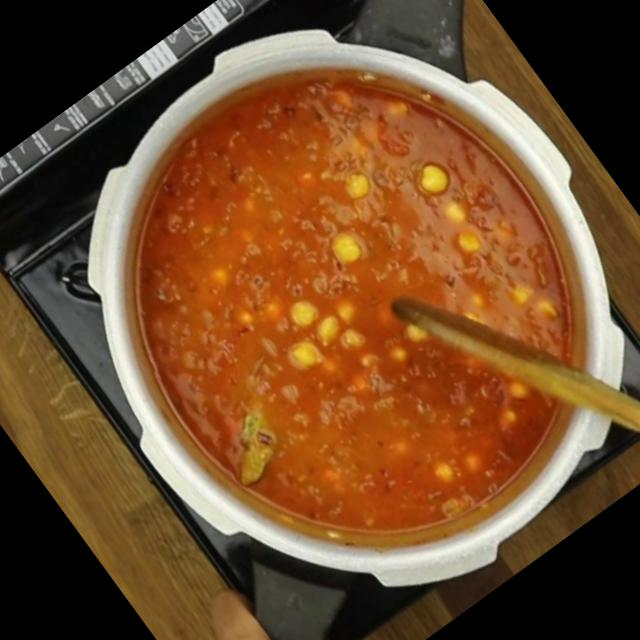Chole: (47, 0, 640, 619)
